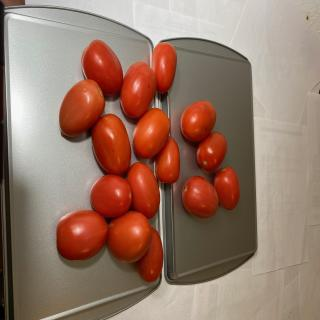Tomato: (56, 209, 109, 261), (59, 79, 105, 137), (92, 113, 132, 175), (81, 39, 123, 96), (107, 211, 152, 263), (120, 61, 156, 118), (126, 162, 160, 219), (133, 108, 170, 158), (90, 174, 132, 218), (180, 100, 216, 142), (182, 176, 218, 218), (136, 227, 163, 283), (151, 42, 177, 94), (196, 132, 227, 172), (155, 136, 180, 184), (213, 166, 240, 210)
